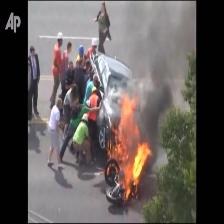fire: (107, 93, 152, 199)
